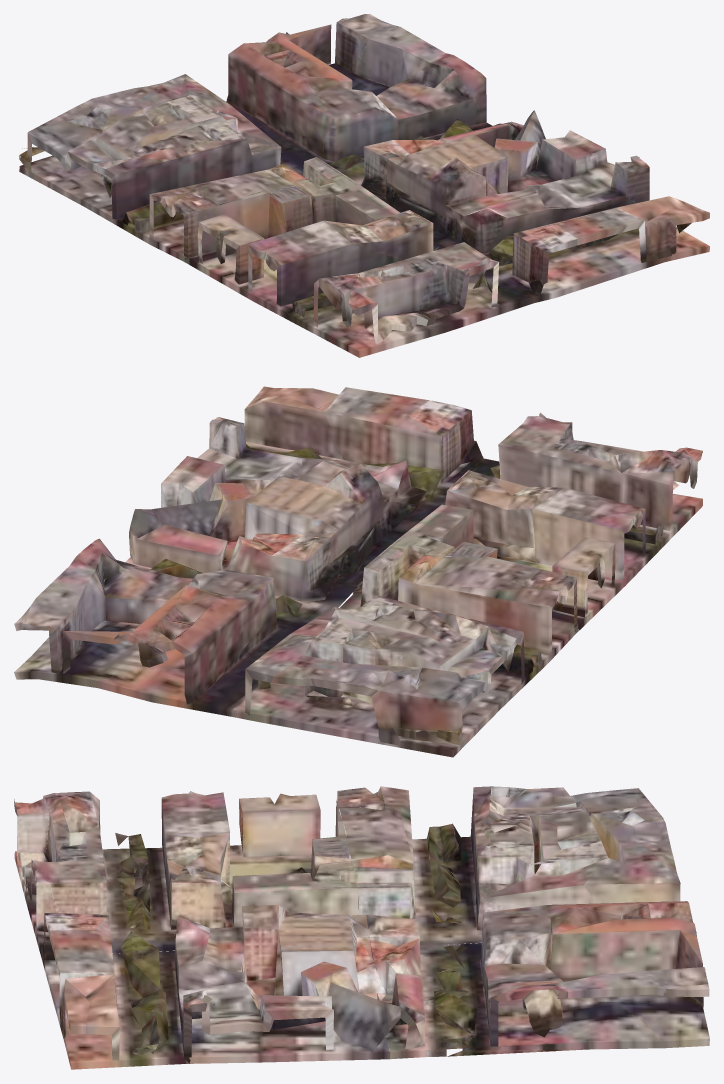
3 renders of one model, top to bottom at view 1: azimuth 30°, elevation 25°; view 2: azimuth 150°, elevation 25°; view 3: azimuth 270°, elevation 25°, orthographic. The views are drawn at different scales.
Parts seen in each view (by area): view 1: Mesh_0; view 2: Mesh_0; view 3: Mesh_0.
Boxes of the visible parts, left/top/right/bottom form: Mesh_0: left=19, top=14, right=709, bottom=357; Mesh_0: left=14, top=386, right=702, bottom=757; Mesh_0: left=14, top=786, right=709, bottom=1069.
Bounding box in the file's own units: 270 × 43.4 × 330.
Materials: 2 (2 with a texture image).
